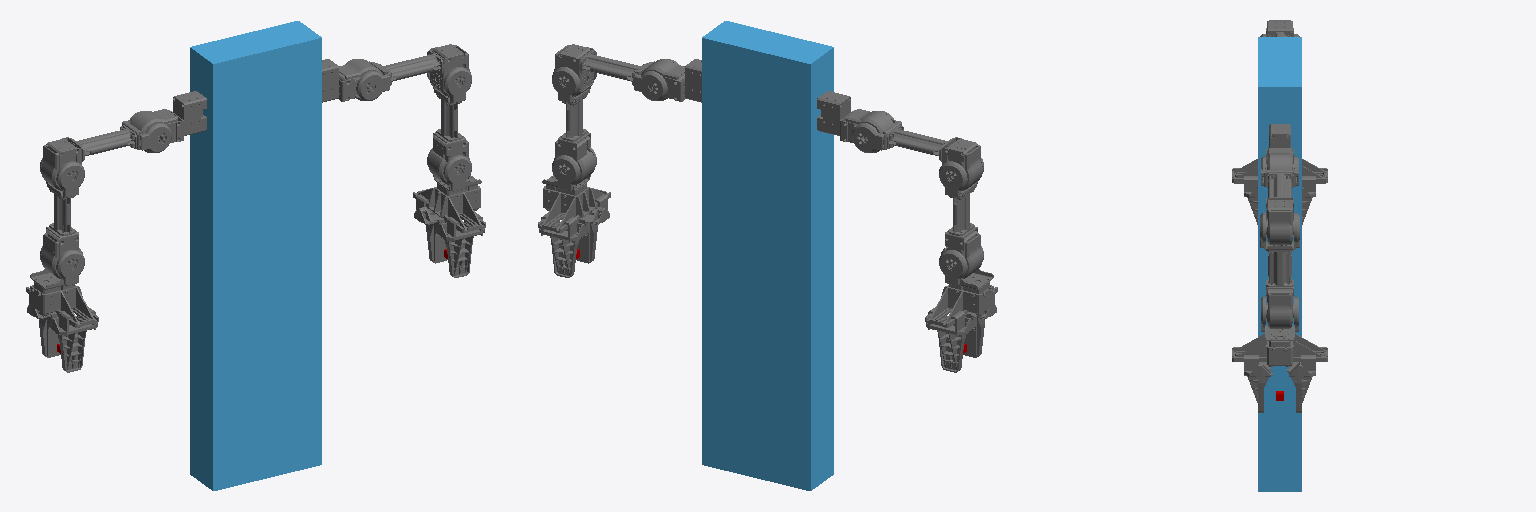
URDF robot description (marvin):
<?xml version="1.0" ?>
<!-- =================================================================================== -->
<!-- |    This document was autogenerated by xacro from [local-path]/marvin/ros2_ws/src/marvin_moveit/config/marvin.urdf.xacro | -->
<!-- |    EDITING THIS FILE BY HAND IS NOT RECOMMENDED                                 | -->
<!-- =================================================================================== -->
<robot name="marvin">
  <material name="black">
    <color rgba="0.0 0.0 0.0 1.0"/>
  </material>
  <material name="white">
    <color rgba="1.0 1.0 1.0 1.0"/>
  </material>
  <material name="red">
    <color rgba="0.8 0.0 0.0 1.0"/>
  </material>
  <material name="blue">
    <color rgba="0.0 0.0 0.8 1.0"/>
  </material>
  <material name="green">
    <color rgba="0.0 0.8 0.0 1.0"/>
  </material>
  <material name="grey">
    <color rgba="0.5 0.5 0.5 1.0"/>
  </material>
  <material name="orange">
    <color rgba="1.0 0.4235294117647059 0.0392156862745098 1.0"/>
  </material>
  <material name="brown">
    <color rgba="0.8705882352941177 0.8117647058823529 0.7647058823529411 1.0"/>
  </material>
  <!-- Import all Gazebo-customization elements, including Gazebo colors -->
  <!--xacro:include filename="[local-path]/marvin/ros2_ws/src/marvin/urdf2/open_manipulator.gazebo.xacro" /-->
  <transmission name="tran1">
    <type>transmission_interface/SimpleTransmission</type>
    <joint name="joint1">
      <hardwareInterface>hardware_interface/PositionJointInterface</hardwareInterface>
    </joint>
    <actuator name="motor1">
      <mechanicalReduction>1</mechanicalReduction>
    </actuator>
  </transmission>
  <transmission name="tran2">
    <type>transmission_interface/SimpleTransmission</type>
    <joint name="joint2">
      <hardwareInterface>hardware_interface/PositionJointInterface</hardwareInterface>
    </joint>
    <actuator name="motor2">
      <mechanicalReduction>1</mechanicalReduction>
    </actuator>
  </transmission>
  <transmission name="tran3">
    <type>transmission_interface/SimpleTransmission</type>
    <joint name="joint3">
      <hardwareInterface>hardware_interface/PositionJointInterface</hardwareInterface>
    </joint>
    <actuator name="motor3">
      <mechanicalReduction>1</mechanicalReduction>
    </actuator>
  </transmission>
  <transmission name="tran4">
    <type>transmission_interface/SimpleTransmission</type>
    <joint name="joint4">
      <hardwareInterface>hardware_interface/PositionJointInterface</hardwareInterface>
    </joint>
    <actuator name="motor4">
      <mechanicalReduction>1</mechanicalReduction>
    </actuator>
  </transmission>
  <transmission name="tran5">
    <type>transmission_interface/SimpleTransmission</type>
    <joint name="gripper">
      <hardwareInterface>hardware_interface/EffortJointInterface</hardwareInterface>
    </joint>
    <actuator name="motor5">
      <mechanicalReduction>1</mechanicalReduction>
    </actuator>
  </transmission>
  <transmission name="tran6">
    <type>transmission_interface/SimpleTransmission</type>
    <joint name="gripper_sub">
      <hardwareInterface>hardware_interface/EffortJointInterface</hardwareInterface>
    </joint>
    <actuator name="motor6">
      <mechanicalReduction>1</mechanicalReduction>
    </actuator>
  </transmission>
  <!-- World -->
  <link name="world"/>
  <!-- World fixed joint-->
  <joint name="world_fixed" type="fixed">
    <origin rpy="0 0 0" xyz="0 0 0"/>
    <parent link="world"/>
    <child link="torso"/>
  </joint>
  <!-- Torso Link -->
  <link name="torso">
    <collision name="Cube">
      <origin rpy="0.00000 0.00000 0.00000" xyz="0.00000 0.00000 -0.22261"/>
      <geometry>
        <box size="0.16000 0.06000 0.60000"/>
      </geometry>
    </collision>
    <visual name="Cube">
      <origin rpy="0.00000 0.00000 0.00000" xyz="0.00000 0.00000 -0.22261"/>
      <geometry>
        <box size="0.16000 0.06000 0.60000"/>
      </geometry>
    </visual>
    <parent link="world"/>
  </link>
  <joint name="left_arm_joint" type="fixed">
    <parent link="torso"/>
    <child link="link1_left"/>
    <origin rpy="0 1.5708 0" xyz="0.08 0 0"/>
  </joint>
  <joint name="right_arm_joint" type="fixed">
    <parent link="torso"/>
    <child link="link1_right"/>
    <origin rpy="0 1.5708 3.1415926535" xyz="-0.08 0 0"/>
    <!-- Rotate by pi -->
  </joint>
  <!-- Link 1 -->
  <link name="link1_left">
    <visual>
      <origin rpy="0 0 0" xyz="0 0 0"/>
      <geometry>
        <mesh filename="package://marvin/meshes/stl/chain_link1.stl" scale="0.001 0.001 0.001"/>
      </geometry>
      <material name="grey"/>
    </visual>
    <collision>
      <origin rpy="0 0 0" xyz="0 0 0"/>
      <geometry>
        <mesh filename="package://marvin/meshes/stl/chain_link1.stl" scale="0.001 0.001 0.001"/>
      </geometry>
    </collision>
    <inertial>
      <origin xyz="3.0876154e-04 0.0000000e+00 -1.2176461e-04"/>
      <mass value="7.9119962e-02"/>
      <inertia ixx="1.2505234e-05" ixy="0.0" ixz="-1.7855208e-07" iyy="2.1898364e-05" iyz="0.0" izz="1.9267361e-05"/>
    </inertial>
    <parent link="left_arm_joint"/>
  </link>
  <!-- Joint 1 -->
  <joint name="joint1_left" type="revolute">
    <parent link="link1_left"/>
    <child link="link2_left"/>
    <origin rpy="0 0 0" xyz="0.012 0.0 0.017"/>
    <axis xyz="0 0 1"/>
    <limit acceleration="1.0" effort="1" lower="-2.827433388230814" upper="2.827433388230814" velocity="4.8"/>
  </joint>
  <!--  Link 2 -->
  <link name="link2_left">
    <visual>
      <origin rpy="0 0 0" xyz="0 0 0.019"/>
      <geometry>
        <mesh filename="package://marvin/meshes/stl/chain_link2.stl" scale="0.001 0.001 0.001"/>
      </geometry>
      <material name="grey"/>
    </visual>
    <collision>
      <origin rpy="0 0 0" xyz="0 0 0.019"/>
      <geometry>
        <mesh filename="package://marvin/meshes/stl/chain_link2.stl" scale="0.001 0.001 0.001"/>
      </geometry>
    </collision>
    <inertial>
      <origin xyz="-3.0184870e-04 5.4043684e-04 0.047433463999999995"/>
      <mass value="9.8406837e-02"/>
      <inertia ixx="3.4543422e-05" ixy="-1.6031095e-08" ixz="-3.8375155e-07" iyy="3.2689329e-05" iyz="2.8511935e-08" izz="1.8850320e-05"/>
    </inertial>
  </link>
  <!--  Joint 2 -->
  <joint name="joint2_left" type="revolute">
    <parent link="link2_left"/>
    <child link="link3_left"/>
    <origin rpy="0 0 0" xyz="0.0 0.0 0.0595"/>
    <axis xyz="0 1 0"/>
    <limit acceleration="1.0" effort="1" lower="-1.790707812546182" upper="1.5707963267948966" velocity="4.8"/>
  </joint>
  <!--  Link 3 -->
  <link name="link3_left">
    <visual>
      <origin rpy="0 0 0" xyz="0 0 0"/>
      <geometry>
        <mesh filename="package://marvin/meshes/stl/chain_link3.stl" scale="0.001 0.001 0.001"/>
      </geometry>
      <material name="grey"/>
    </visual>
    <collision>
      <origin rpy="0 0 0" xyz="0 0 0"/>
      <geometry>
        <mesh filename="package://marvin/meshes/stl/chain_link3.stl" scale="0.001 0.001 0.001"/>
      </geometry>
    </collision>
    <inertial>
      <origin xyz="1.0308393e-02 3.7743363e-04 1.0170197e-01"/>
      <mass value="1.3850917e-01"/>
      <inertia ixx="3.3055381e-04" ixy="-9.7940978e-08" ixz="-3.8505711e-05" iyy="3.4290447e-04" iyz="-1.5717516e-06" izz="6.0346498e-05"/>
    </inertial>
  </link>
  <!--  Joint 3 -->
  <joint name="joint3_left" type="revolute">
    <parent link="link3_left"/>
    <child link="link4_left"/>
    <origin rpy="0 0 0" xyz="0.024 0 0.128"/>
    <axis xyz="0 1 0"/>
    <limit acceleration="1.0" effort="1" lower="-0.9424777960769379" upper="1.382300767579509" velocity="4.8"/>
  </joint>
  <!--  Link 4 -->
  <link name="link4_left">
    <visual>
      <origin rpy="0 0 0" xyz="0 0 0"/>
      <geometry>
        <mesh filename="package://marvin/meshes/stl/chain_link4.stl" scale="0.001 0.001 0.001"/>
      </geometry>
      <material name="grey"/>
    </visual>
    <collision>
      <origin rpy="0 0 0" xyz="0 0 0"/>
      <geometry>
        <mesh filename="package://marvin/meshes/stl/chain_link4.stl" scale="0.001 0.001 0.001"/>
      </geometry>
    </collision>
    <inertial>
      <origin xyz="9.0909590e-02 3.8929816e-04 2.2413279e-04"/>
      <mass value="1.3274562e-01"/>
      <inertia ixx="3.0654178e-05" ixy="-1.2764155e-06" ixz="-2.6874417e-07" iyy="2.4230292e-04" iyz="1.1559550e-08" izz="2.5155057e-04"/>
    </inertial>
  </link>
  <!--  Joint 4 -->
  <joint name="joint4_left" type="revolute">
    <parent link="link4_left"/>
    <child link="link5_left"/>
    <origin rpy="0 0 0" xyz="0.124 0.0 0.0"/>
    <axis xyz="0 1 0"/>
    <limit acceleration="1.0" effort="1" lower="-1.790707812546182" upper="2.0420352248333655" velocity="4.8"/>
  </joint>
  <!--  Link 5 -->
  <link name="link5_left">
    <visual>
      <origin rpy="0 0 0" xyz="0 0 0"/>
      <geometry>
        <mesh filename="package://marvin/meshes/stl/chain_link5.stl" scale="0.001 0.001 0.001"/>
      </geometry>
      <material name="grey"/>
    </visual>
    <collision>
      <origin rpy="0 0 0" xyz="0 0 0"/>
      <geometry>
        <mesh filename="package://marvin/meshes/stl/chain_link5.stl" scale="0.001 0.001 0.001"/>
      </geometry>
    </collision>
    <inertial>
      <origin xyz="4.4206755e-02 3.6839985e-07 8.9142216e-03"/>
      <mass value="1.4327573e-01"/>
      <inertia ixx="8.0870749e-05" ixy="0.0" ixz="-1.0157896e-06" iyy="7.5980465e-05" iyz="0.0" izz="9.3127351e-05"/>
    </inertial>
  </link>
  <!--  Gripper joint -->
  <joint name="gripper_left" type="prismatic">
    <parent link="link5_left"/>
    <child link="gripper_link_left"/>
    <origin rpy="0 0 0" xyz="0.0817 0.021 0.0"/>
    <axis xyz="0 1 0"/>
    <limit acceleration="1.0" effort="1" lower="-0.010" upper="0.019" velocity="4.8"/>
  </joint>
  <!--  Gripper link -->
  <link name="gripper_link_left">
    <visual>
      <origin rpy="0 0 0" xyz="0.0 0.0 0"/>
      <geometry>
        <mesh filename="package://marvin/meshes/stl/chain_link_grip_l.stl" scale="0.001 0.001 0.001"/>
      </geometry>
      <material name="grey"/>
    </visual>
    <collision>
      <origin rpy="0 0 0" xyz="0.0 0.0 0"/>
      <geometry>
        <mesh filename="package://marvin/meshes/stl/chain_link_grip_l.stl" scale="0.001 0.001 0.001"/>
      </geometry>
    </collision>
    <inertial>
      <origin xyz="0 0 0"/>
      <mass value="1.0e-03"/>
      <inertia ixx="1.0e-03" ixy="0.0" ixz="0.0" iyy="1.0e-03" iyz="0.0" izz="1.0e-03"/>
    </inertial>
  </link>
  <!--  Gripper joint sub -->
  <joint name="gripper_sub_left" type="prismatic">
    <parent link="link5_left"/>
    <child link="gripper_link_sub_left"/>
    <origin rpy="0 0 0" xyz="0.0817 -0.021 0"/>
    <axis xyz="0 -1 0"/>
    <limit acceleration="1.0" effort="1" lower="-0.010" upper="0.019" velocity="4.8"/>
    <mimic joint="gripper_left" multiplier="1"/>
  </joint>
  <!--  Gripper link sub -->
  <link name="gripper_link_sub_left">
    <visual>
      <origin rpy="0 0 0" xyz="0.0 -0.0 0"/>
      <geometry>
        <mesh filename="package://marvin/meshes/stl/chain_link_grip_r.stl" scale="0.001 0.001 0.001"/>
      </geometry>
      <material name="grey"/>
    </visual>
    <collision>
      <origin rpy="0 0 0" xyz="0.0 -0.0 0"/>
      <geometry>
        <mesh filename="package://marvin/meshes/stl/chain_link_grip_r.stl" scale="0.001 0.001 0.001"/>
      </geometry>
    </collision>
    <inertial>
      <origin xyz="0 0 0"/>
      <mass value="1.0e-03"/>
      <inertia ixx="1.0e-03" ixy="0.0" ixz="0.0" iyy="1.0e-03" iyz="0.0" izz="1.0e-03"/>
    </inertial>
  </link>
  <!-- end effector joint -->
  <joint name="end_effector_joint_left" type="fixed">
    <origin rpy="0 0 0" xyz="0.126 0.0 0.0"/>
    <parent link="link5_left"/>
    <child link="end_effector_link_left"/>
  </joint>
  <!-- end effector link -->
  <link name="end_effector_link_left">
    <visual>
      <origin rpy="0 0 0" xyz="0 0 0"/>
      <geometry>
        <box size="0.01 0.01 0.01"/>
      </geometry>
      <material name="red"/>
    </visual>
    <inertial>
      <origin xyz="0 0 0"/>
      <mass value="1.0e-03"/>
      <inertia ixx="1.0e-03" ixy="0.0" ixz="0.0" iyy="1.0e-03" iyz="0.0" izz="1.0e-03"/>
    </inertial>
  </link>
  <!-- Left Arm -->
  <!-- Link 1 -->
  <link name="link1_right">
    <visual>
      <origin rpy="0 0 0" xyz="0 0 0"/>
      <geometry>
        <mesh filename="package://marvin/meshes/stl/chain_link1.stl" scale="0.001 0.001 0.001"/>
      </geometry>
      <material name="grey"/>
    </visual>
    <collision>
      <origin rpy="0 0 0" xyz="0 0 0"/>
      <geometry>
        <mesh filename="package://marvin/meshes/stl/chain_link1.stl" scale="0.001 0.001 0.001"/>
      </geometry>
    </collision>
    <inertial>
      <origin xyz="3.0876154e-04 0.0000000e+00 -1.2176461e-04"/>
      <mass value="7.9119962e-02"/>
      <inertia ixx="1.2505234e-05" ixy="0.0" ixz="-1.7855208e-07" iyy="2.1898364e-05" iyz="0.0" izz="1.9267361e-05"/>
    </inertial>
    <parent link="right_arm_joint"/>
  </link>
  <!-- Joint 1 -->
  <joint name="joint1_right" type="revolute">
    <parent link="link1_right"/>
    <child link="link2_right"/>
    <origin rpy="0 0 0" xyz="0.012 0.0 0.017"/>
    <axis xyz="0 0 1"/>
    <limit acceleration="1.0" effort="1" lower="-2.827433388230814" upper="2.827433388230814" velocity="4.8"/>
  </joint>
  <!--  Link 2 -->
  <link name="link2_right">
    <visual>
      <origin rpy="0 0 0" xyz="0 0 0.019"/>
      <geometry>
        <mesh filename="package://marvin/meshes/stl/chain_link2.stl" scale="0.001 0.001 0.001"/>
      </geometry>
      <material name="grey"/>
    </visual>
    <collision>
      <origin rpy="0 0 0" xyz="0 0 0.019"/>
      <geometry>
        <mesh filename="package://marvin/meshes/stl/chain_link2.stl" scale="0.001 0.001 0.001"/>
      </geometry>
    </collision>
    <inertial>
      <origin xyz="-3.0184870e-04 5.4043684e-04 0.047433463999999995"/>
      <mass value="9.8406837e-02"/>
      <inertia ixx="3.4543422e-05" ixy="-1.6031095e-08" ixz="-3.8375155e-07" iyy="3.2689329e-05" iyz="2.8511935e-08" izz="1.8850320e-05"/>
    </inertial>
  </link>
  <!--  Joint 2 -->
  <joint name="joint2_right" type="revolute">
    <parent link="link2_right"/>
    <child link="link3_right"/>
    <origin rpy="0 0 0" xyz="0.0 0.0 0.0595"/>
    <axis xyz="0 1 0"/>
    <limit acceleration="1.0" effort="1" lower="-1.790707812546182" upper="1.5707963267948966" velocity="4.8"/>
  </joint>
  <!--  Link 3 -->
  <link name="link3_right">
    <visual>
      <origin rpy="0 0 0" xyz="0 0 0"/>
      <geometry>
        <mesh filename="package://marvin/meshes/stl/chain_link3.stl" scale="0.001 0.001 0.001"/>
      </geometry>
      <material name="grey"/>
    </visual>
    <collision>
      <origin rpy="0 0 0" xyz="0 0 0"/>
      <geometry>
        <mesh filename="package://marvin/meshes/stl/chain_link3.stl" scale="0.001 0.001 0.001"/>
      </geometry>
    </collision>
    <inertial>
      <origin xyz="1.0308393e-02 3.7743363e-04 1.0170197e-01"/>
      <mass value="1.3850917e-01"/>
      <inertia ixx="3.3055381e-04" ixy="-9.7940978e-08" ixz="-3.8505711e-05" iyy="3.4290447e-04" iyz="-1.5717516e-06" izz="6.0346498e-05"/>
    </inertial>
  </link>
  <!--  Joint 3 -->
  <joint name="joint3_right" type="revolute">
    <parent link="link3_right"/>
    <child link="link4_right"/>
    <origin rpy="0 0 0" xyz="0.024 0 0.128"/>
    <axis xyz="0 1 0"/>
    <limit acceleration="1.0" effort="1" lower="-0.9424777960769379" upper="1.382300767579509" velocity="4.8"/>
  </joint>
  <!--  Link 4 -->
  <link name="link4_right">
    <visual>
      <origin rpy="0 0 0" xyz="0 0 0"/>
      <geometry>
        <mesh filename="package://marvin/meshes/stl/chain_link4.stl" scale="0.001 0.001 0.001"/>
      </geometry>
      <material name="grey"/>
    </visual>
    <collision>
      <origin rpy="0 0 0" xyz="0 0 0"/>
      <geometry>
        <mesh filename="package://marvin/meshes/stl/chain_link4.stl" scale="0.001 0.001 0.001"/>
      </geometry>
    </collision>
    <inertial>
      <origin xyz="9.0909590e-02 3.8929816e-04 2.2413279e-04"/>
      <mass value="1.3274562e-01"/>
      <inertia ixx="3.0654178e-05" ixy="-1.2764155e-06" ixz="-2.6874417e-07" iyy="2.4230292e-04" iyz="1.1559550e-08" izz="2.5155057e-04"/>
    </inertial>
  </link>
  <!--  Joint 4 -->
  <joint name="joint4_right" type="revolute">
    <parent link="link4_right"/>
    <child link="link5_right"/>
    <origin rpy="0 0 0" xyz="0.124 0.0 0.0"/>
    <axis xyz="0 1 0"/>
    <limit acceleration="1.0" effort="1" lower="-1.790707812546182" upper="2.0420352248333655" velocity="4.8"/>
  </joint>
  <!--  Link 5 -->
  <link name="link5_right">
    <visual>
      <origin rpy="0 0 0" xyz="0 0 0"/>
      <geometry>
        <mesh filename="package://marvin/meshes/stl/chain_link5.stl" scale="0.001 0.001 0.001"/>
      </geometry>
      <material name="grey"/>
    </visual>
    <collision>
      <origin rpy="0 0 0" xyz="0 0 0"/>
      <geometry>
        <mesh filename="package://marvin/meshes/stl/chain_link5.stl" scale="0.001 0.001 0.001"/>
      </geometry>
    </collision>
    <inertial>
      <origin xyz="4.4206755e-02 3.6839985e-07 8.9142216e-03"/>
      <mass value="1.4327573e-01"/>
      <inertia ixx="8.0870749e-05" ixy="0.0" ixz="-1.0157896e-06" iyy="7.5980465e-05" iyz="0.0" izz="9.3127351e-05"/>
    </inertial>
  </link>
  <!--  Gripper joint -->
  <joint name="gripper_right" type="prismatic">
    <parent link="link5_right"/>
    <child link="gripper_link_right"/>
    <origin rpy="0 0 0" xyz="0.0817 0.021 0.0"/>
    <axis xyz="0 1 0"/>
    <limit acceleration="1.0" effort="1" lower="-0.010" upper="0.019" velocity="4.8"/>
  </joint>
  <!--  Gripper link -->
  <link name="gripper_link_right">
    <visual>
      <origin rpy="0 0 0" xyz="0.0 0.0 0"/>
      <geometry>
        <mesh filename="package://marvin/meshes/stl/chain_link_grip_l.stl" scale="0.001 0.001 0.001"/>
      </geometry>
      <material name="grey"/>
    </visual>
    <collision>
      <origin rpy="0 0 0" xyz="0.0 0.0 0"/>
      <geometry>
        <mesh filename="package://marvin/meshes/stl/chain_link_grip_l.stl" scale="0.001 0.001 0.001"/>
      </geometry>
    </collision>
    <inertial>
      <origin xyz="0 0 0"/>
      <mass value="1.0e-03"/>
      <inertia ixx="1.0e-03" ixy="0.0" ixz="0.0" iyy="1.0e-03" iyz="0.0" izz="1.0e-03"/>
    </inertial>
  </link>
  <!--  Gripper joint sub -->
  <joint name="gripper_sub_right" type="prismatic">
    <parent link="link5_right"/>
    <child link="gripper_link_sub_right"/>
    <origin rpy="0 0 0" xyz="0.0817 -0.021 0"/>
    <axis xyz="0 -1 0"/>
    <limit acceleration="1.0" effort="1" lower="-0.010" upper="0.019" velocity="4.8"/>
    <mimic joint="gripper_right" multiplier="1"/>
  </joint>
  <!--  Gripper link sub -->
  <link name="gripper_link_sub_right">
    <visual>
      <origin rpy="0 0 0" xyz="0.0 -0.0 0"/>
      <geometry>
        <mesh filename="package://marvin/meshes/stl/chain_link_grip_r.stl" scale="0.001 0.001 0.001"/>
      </geometry>
      <material name="grey"/>
    </visual>
    <collision>
      <origin rpy="0 0 0" xyz="0.0 -0.0 0"/>
      <geometry>
        <mesh filename="package://marvin/meshes/stl/chain_link_grip_r.stl" scale="0.001 0.001 0.001"/>
      </geometry>
    </collision>
    <inertial>
      <origin xyz="0 0 0"/>
      <mass value="1.0e-03"/>
      <inertia ixx="1.0e-03" ixy="0.0" ixz="0.0" iyy="1.0e-03" iyz="0.0" izz="1.0e-03"/>
    </inertial>
  </link>
  <!-- end effector joint -->
  <joint name="end_effector_joint_right" type="fixed">
    <origin rpy="0 0 0" xyz="0.126 0.0 0.0"/>
    <parent link="link5_right"/>
    <child link="end_effector_link_right"/>
  </joint>
  <!-- end effector link -->
  <link name="end_effector_link_right">
    <visual>
      <origin rpy="0 0 0" xyz="0 0 0"/>
      <geometry>
        <box size="0.01 0.01 0.01"/>
      </geometry>
      <material name="red"/>
    </visual>
    <inertial>
      <origin xyz="0 0 0"/>
      <mass value="1.0e-03"/>
      <inertia ixx="1.0e-03" ixy="0.0" ixz="0.0" iyy="1.0e-03" iyz="0.0" izz="1.0e-03"/>
    </inertial>
  </link>
  <!-- Right Arm (Mirrored) -->
  <ros2_control name="FakeSystem" type="system">
    <hardware>
      <!-- By default, set up controllers for simulation. This won't work on real hardware -->
      <plugin>mock_components/GenericSystem</plugin>
    </hardware>
    <joint name="gripper_left">
      <command_interface name="position"/>
      <state_interface name="position">
        <param name="initial_value">0</param>
      </state_interface>
      <state_interface name="velocity"/>
    </joint>
    <joint name="gripper_right">
      <command_interface name="position"/>
      <state_interface name="position">
        <param name="initial_value">0</param>
      </state_interface>
      <state_interface name="velocity"/>
    </joint>
    <joint name="joint1_right">
      <command_interface name="position"/>
      <state_interface name="position">
        <param name="initial_value">0</param>
      </state_interface>
      <state_interface name="velocity"/>
    </joint>
    <joint name="joint2_right">
      <command_interface name="position"/>
      <state_interface name="position">
        <param name="initial_value">0</param>
      </state_interface>
      <state_interface name="velocity"/>
    </joint>
    <joint name="joint3_right">
      <command_interface name="position"/>
      <state_interface name="position">
        <param name="initial_value">0</param>
      </state_interface>
      <state_interface name="velocity"/>
    </joint>
    <joint name="joint4_right">
      <command_interface name="position"/>
      <state_interface name="position">
        <param name="initial_value">0</param>
      </state_interface>
      <state_interface name="velocity"/>
    </joint>
    <joint name="joint1_left">
      <command_interface name="position"/>
      <state_interface name="position">
        <param name="initial_value">0</param>
      </state_interface>
      <state_interface name="velocity"/>
    </joint>
    <joint name="joint2_left">
      <command_interface name="position"/>
      <state_interface name="position">
        <param name="initial_value">0</param>
      </state_interface>
      <state_interface name="velocity"/>
    </joint>
    <joint name="joint3_left">
      <command_interface name="position"/>
      <state_interface name="position">
        <param name="initial_value">0</param>
      </state_interface>
      <state_interface name="velocity"/>
    </joint>
    <joint name="joint4_left">
      <command_interface name="position"/>
      <state_interface name="position">
        <param name="initial_value">0</param>
      </state_interface>
      <state_interface name="velocity"/>
    </joint>
  </ros2_control>
</robot>

--- What the picture shows (computed from the rendered views, not written in the file) ---
3 views of the same robot in one strip: view 1: azimuth 30°, elevation 25°; view 2: azimuth 150°, elevation 25°; view 3: azimuth 270°, elevation 25° (orthographic).
Model marvin with 18 links and 17 joints (8 revolute, 4 prismatic, 5 fixed), rooted at world, posed every joint at zero.
Visible links, largest first — view 1: torso, link3_right, link5_right, link5_left, link3_left, link4_right, link4_left, gripper_link_sub_left, gripper_link_right, link1_right, gripper_link_left, link2_right (+3 smaller); view 2: torso, link3_right, link5_right, link5_left, link3_left, link4_right, link4_left, gripper_link_left, gripper_link_sub_right, link1_right, gripper_link_sub_left, link2_right (+3 smaller); view 3: torso, link4_left, link5_left, link3_left, gripper_link_left, gripper_link_sub_left, link5_right, link2_left, link1_left.
Boxes of the visible links, <box> form: torso: <box>190,21,321,490</box>; link3_right: <box>41,111,171,190</box>; link5_right: <box>26,246,98,327</box>; link5_left: <box>413,148,485,232</box>; link3_left: <box>345,44,470,100</box>; link4_right: <box>40,158,84,278</box>; link4_left: <box>427,67,471,184</box>; gripper_link_sub_left: <box>435,212,484,277</box>; gripper_link_right: <box>48,307,97,372</box>; link1_right: <box>173,91,206,135</box>; gripper_link_left: <box>414,194,447,263</box>; link2_right: <box>130,109,183,152</box>; torso: <box>702,21,833,490</box>; link3_right: <box>852,111,982,190</box>; link5_right: <box>925,246,997,327</box>; link5_left: <box>538,147,610,232</box>; link3_left: <box>553,44,678,100</box>; link4_right: <box>939,158,983,278</box>; link4_left: <box>552,67,596,184</box>; gripper_link_left: <box>539,212,588,277</box>; gripper_link_sub_right: <box>926,307,975,372</box>; link1_right: <box>817,91,850,135</box>; gripper_link_sub_left: <box>576,194,609,263</box>; link2_right: <box>840,109,893,152</box>; torso: <box>1258,37,1301,491</box>; link4_left: <box>1260,213,1299,328</box>; link5_left: <box>1232,296,1327,366</box>; link3_left: <box>1261,156,1298,244</box>; gripper_link_left: <box>1287,355,1315,412</box>; gripper_link_sub_left: <box>1244,355,1272,412</box>; link5_right: <box>1232,159,1327,183</box>; link2_left: <box>1266,148,1293,172</box>; link1_left: <box>1269,124,1290,147</box>.
Size in the robot's own frame: 0.6485 by 0.1286 by 0.6 metres.
Meshes: 7 distinct files referenced, 14 mesh visuals loaded (7 binary STL).
